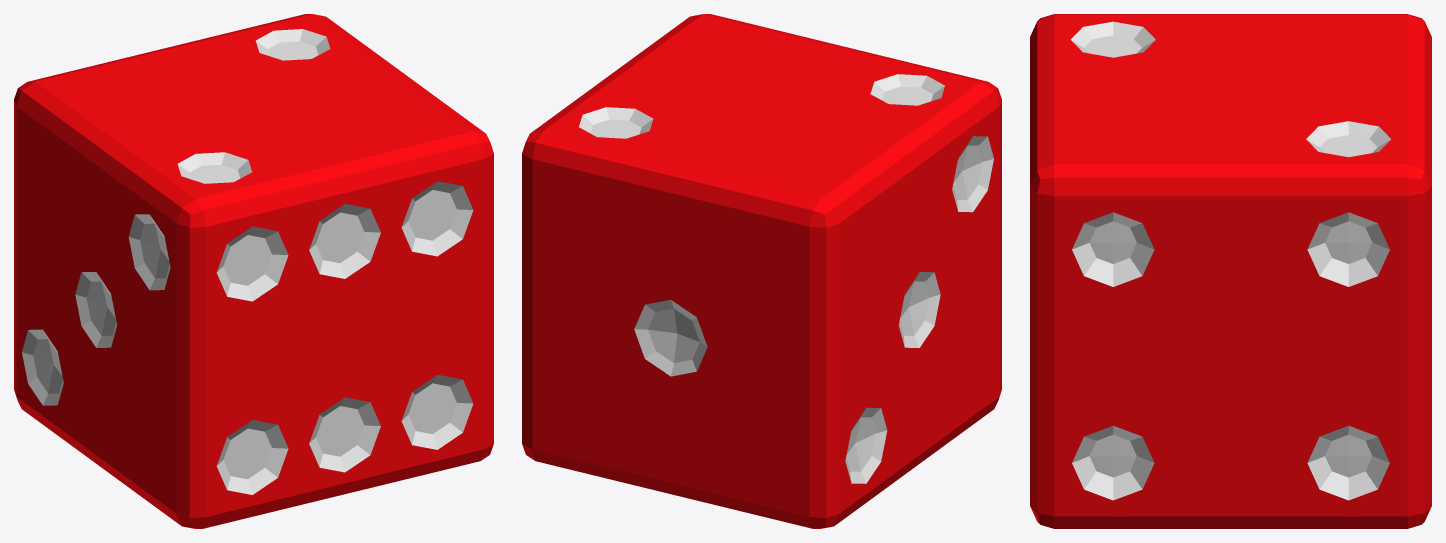
File: dice.glb
3 renders of one model, left to right at view 1: azimuth 30°, elevation 25°; view 2: azimuth 150°, elevation 25°; view 3: azimuth 270°, elevation 25°, orthographic. The views are drawn at different scales.
Parts seen in each view (by area): view 1: Cube.001; view 2: Cube.001; view 3: Cube.001.
Part boxes in pixels (x1,y1,x2,y2): Cube.001: [14, 14, 493, 528]; Cube.001: [522, 14, 1001, 528]; Cube.001: [1030, 14, 1431, 528].
Size of the model in its own units: 0.0278 by 0.0278 by 0.0278.
2 materials, 1 textured.
